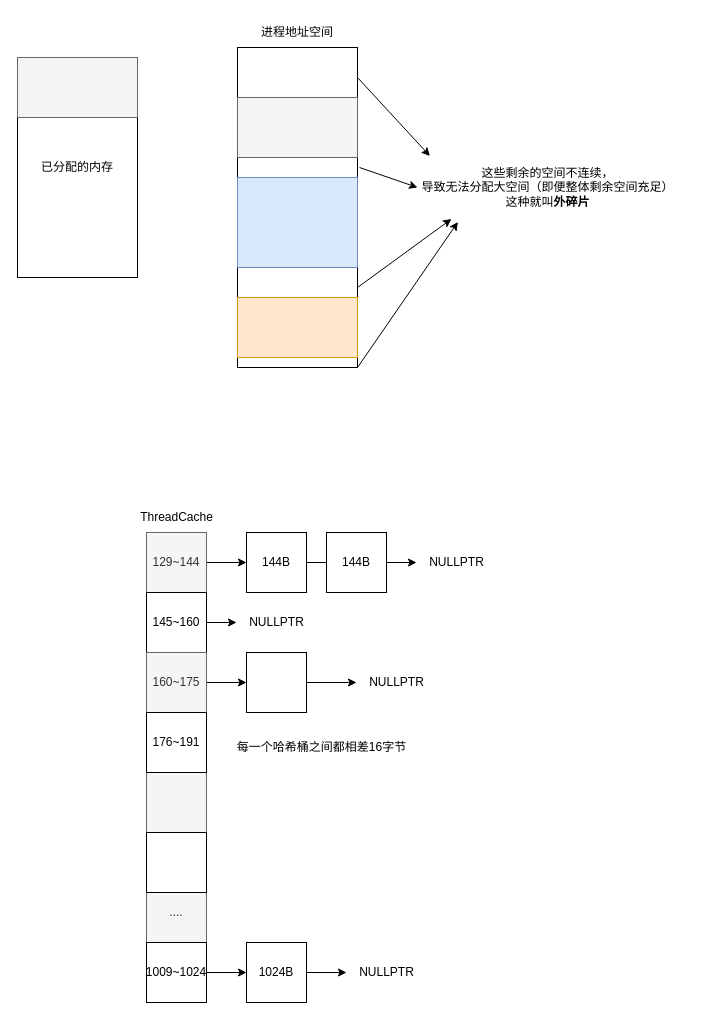
The diagram is 705 pixels wide and 1020 high, and some of its shapes have lost their labels. The centre of each missing label's shape, as x and y in pixels:
175B: the point at 276,682
分配1: the point at 297,127
分配2: the point at 297,222
分配3: the point at 297,327
未使用的部分 是 内碎片: the point at 77,87
